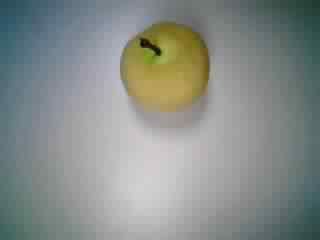pear: (105, 13, 215, 119)
